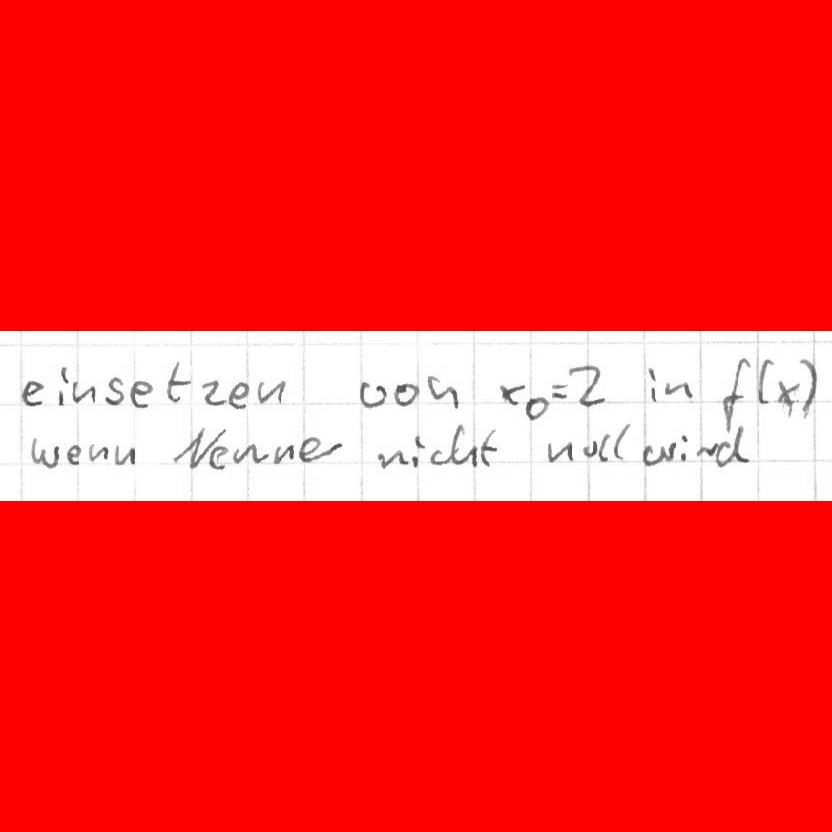Char: (720, 355, 754, 432), (172, 425, 215, 469), (567, 364, 607, 408), (717, 422, 752, 465), (162, 357, 191, 404), (449, 421, 478, 468), (796, 356, 819, 414), (425, 372, 460, 409), (27, 435, 60, 470), (355, 377, 389, 410), (755, 355, 775, 409), (232, 439, 270, 466), (479, 426, 502, 468), (255, 378, 286, 407), (612, 419, 633, 461), (18, 377, 47, 407), (296, 433, 322, 466), (644, 440, 677, 466), (198, 377, 228, 405), (496, 379, 526, 407), (373, 447, 409, 470), (391, 380, 420, 408), (128, 378, 154, 409), (54, 363, 71, 408), (775, 377, 801, 405), (662, 378, 693, 401), (522, 394, 549, 420), (545, 439, 575, 462), (70, 379, 97, 404), (112, 442, 139, 467), (103, 375, 125, 405), (227, 381, 251, 408), (409, 434, 427, 468), (207, 443, 228, 471), (273, 442, 297, 465), (647, 362, 659, 405), (63, 443, 85, 466), (86, 441, 109, 462), (597, 430, 611, 463), (678, 432, 691, 463), (696, 441, 718, 459), (550, 381, 570, 400), (428, 447, 448, 465), (581, 439, 599, 457)
